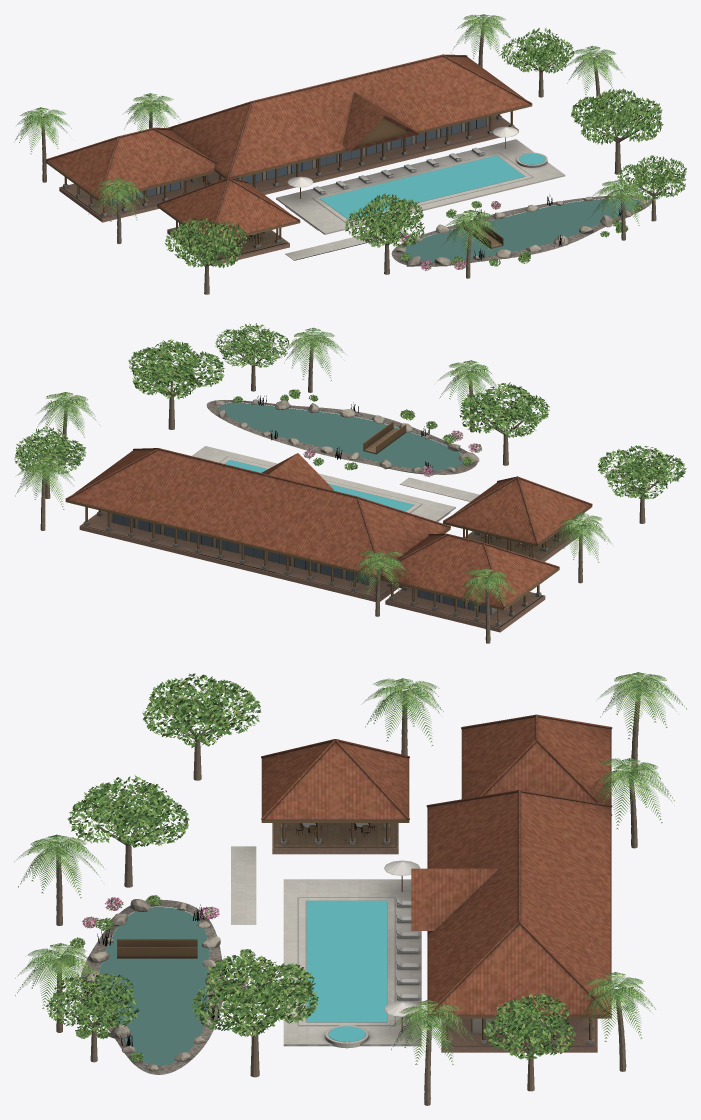
The model's file is clubhouse.gltf.
3 renders of one model, top to bottom at view 1: azimuth 30°, elevation 25°; view 2: azimuth 150°, elevation 25°; view 3: azimuth 270°, elevation 25°, orthographic. The views are drawn at different scales.
Parts seen in each view (by area): view 1: ClubhouseCampus, ClubhouseCampus_Foliage; view 2: ClubhouseCampus, ClubhouseCampus_Foliage; view 3: ClubhouseCampus, ClubhouseCampus_Foliage.
Part boxes in pixels (bbox=[...]): ClubhouseCampus: bbox=[41, 23, 669, 294]; ClubhouseCampus_Foliage: bbox=[14, 14, 686, 271]; ClubhouseCampus: bbox=[32, 339, 667, 643]; ClubhouseCampus_Foliage: bbox=[14, 323, 686, 612]; ClubhouseCampus: bbox=[56, 685, 641, 1105]; ClubhouseCampus_Foliage: bbox=[14, 672, 686, 1064].
Bounding box in the file's own units: 75.95 × 11.65 × 58.55.
7 materials, 1 textured.
